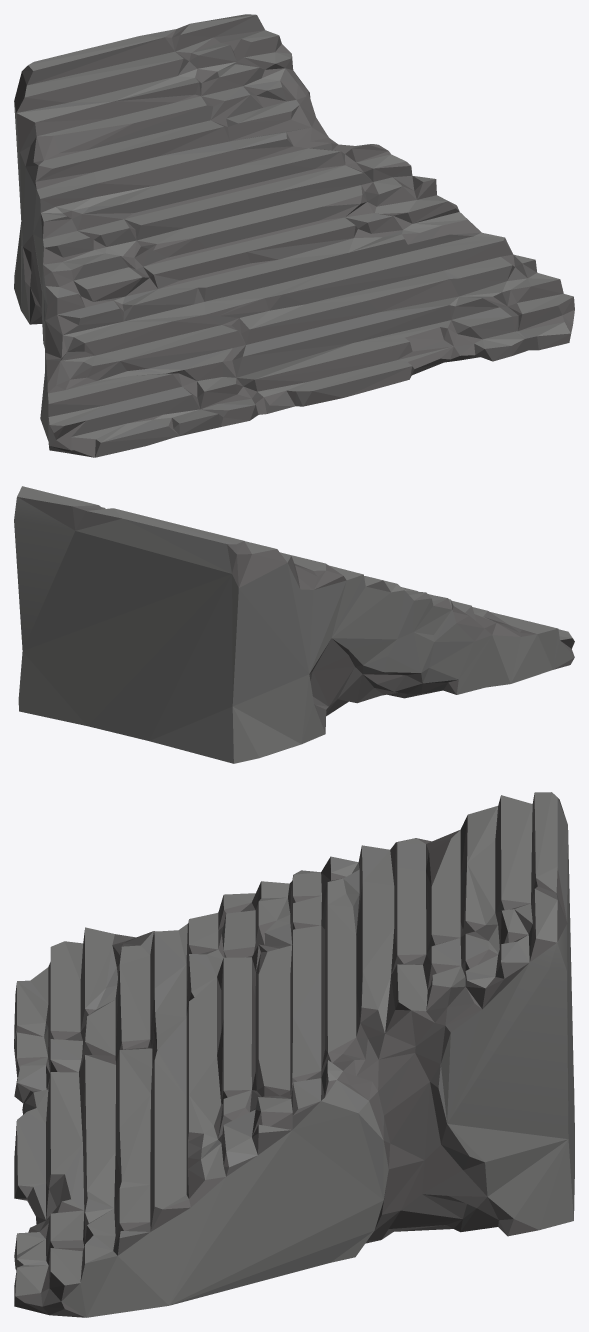
The model's file is SM_Env_Stairs_Large_01.FBX.
3 views of the same model, one above another, from view 1: azimuth 30°, elevation 25°; view 2: azimuth 150°, elevation 25°; view 3: azimuth 270°, elevation 25° (orthographic). The views are drawn at different scales.
Parts seen in each view (by area): view 1: SM_Env_Stairs_Large_01; view 2: SM_Env_Stairs_Large_01; view 3: SM_Env_Stairs_Large_01.
Part boxes in pixels (x1,y1,x2,y2): SM_Env_Stairs_Large_01: (14, 14, 574, 457); SM_Env_Stairs_Large_01: (14, 486, 574, 763); SM_Env_Stairs_Large_01: (14, 792, 574, 1317).
Size of what is drawn, in the model's own units: 1279 by 877 by 502.
